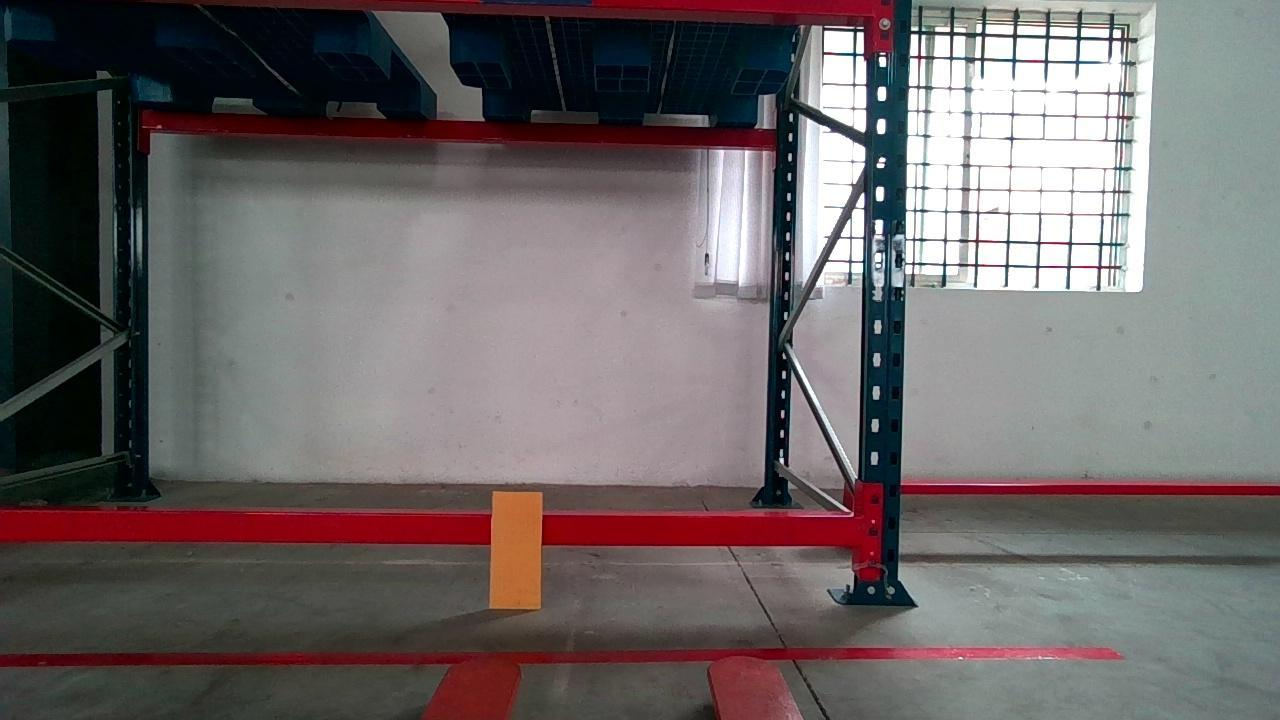h_rack: (1, 509, 859, 546)
orange_strip: (489, 490, 543, 606)
red_line: (3, 643, 1122, 665)
